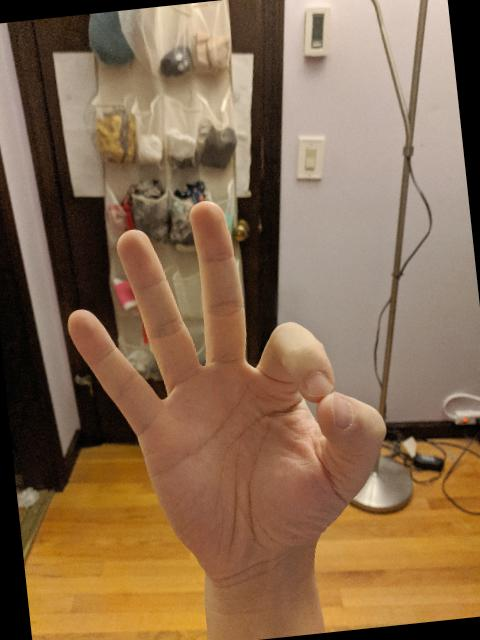F: (51, 180, 408, 604)
